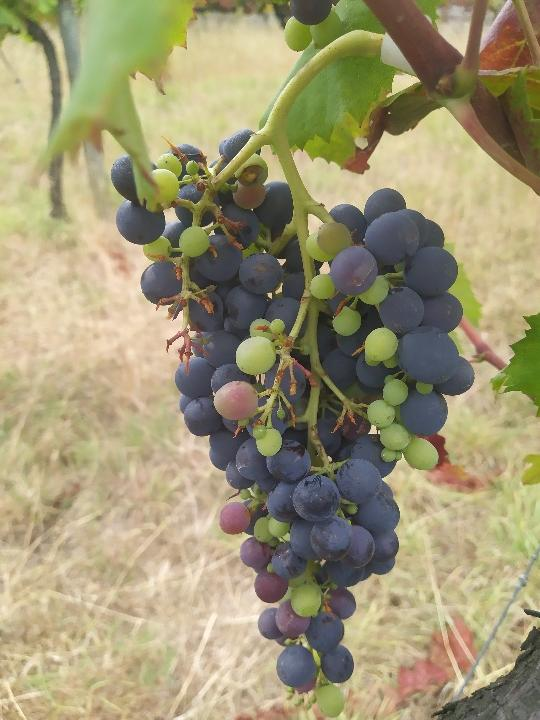grape: (106, 124, 477, 719)
